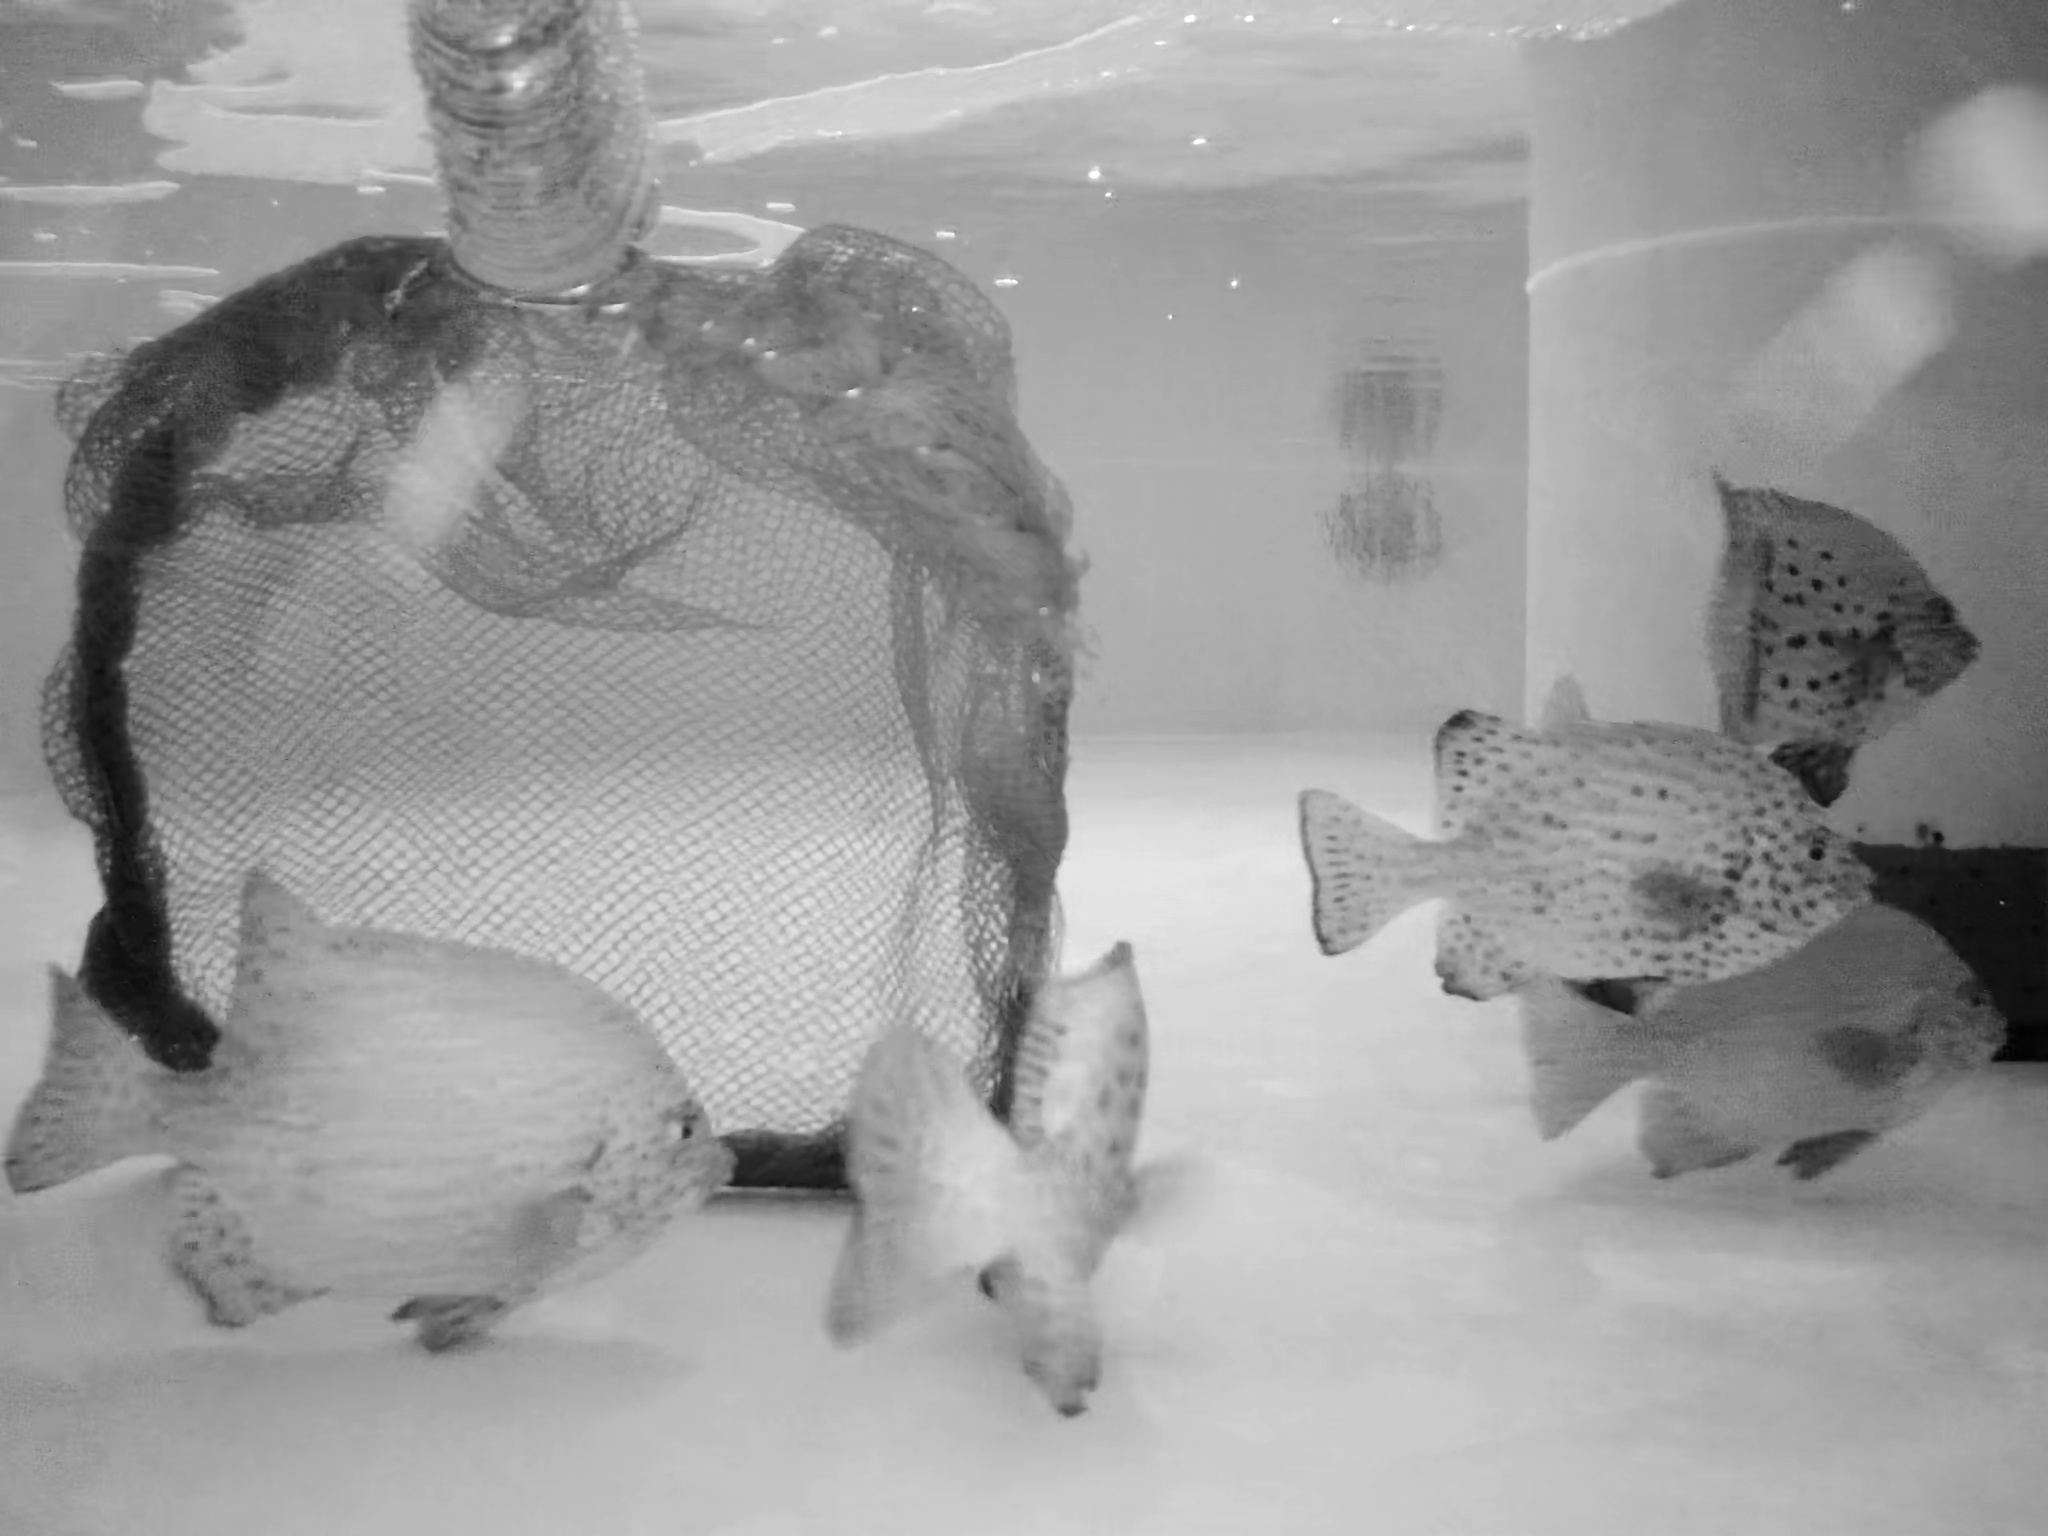fish: (23, 883, 731, 1347), (1285, 716, 1885, 984), (830, 957, 1164, 1426), (1509, 904, 2004, 1181), (1705, 470, 1977, 778)
